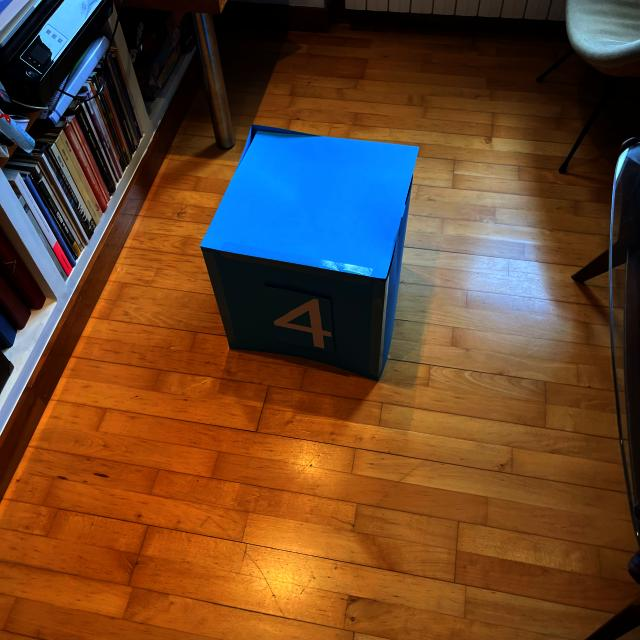box: (198, 120, 420, 382)
